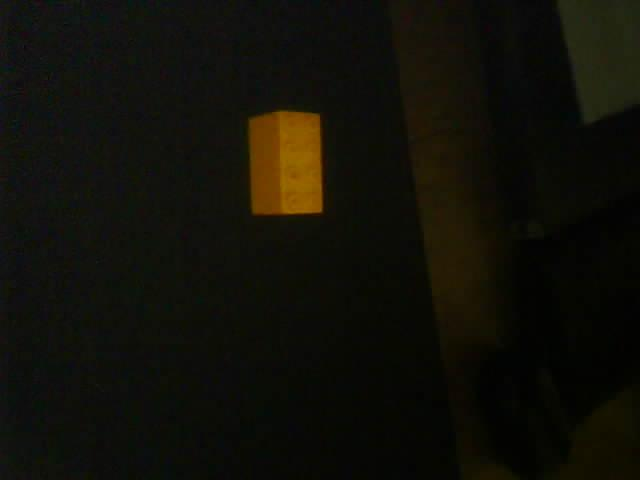lego: (248, 110, 324, 215)
